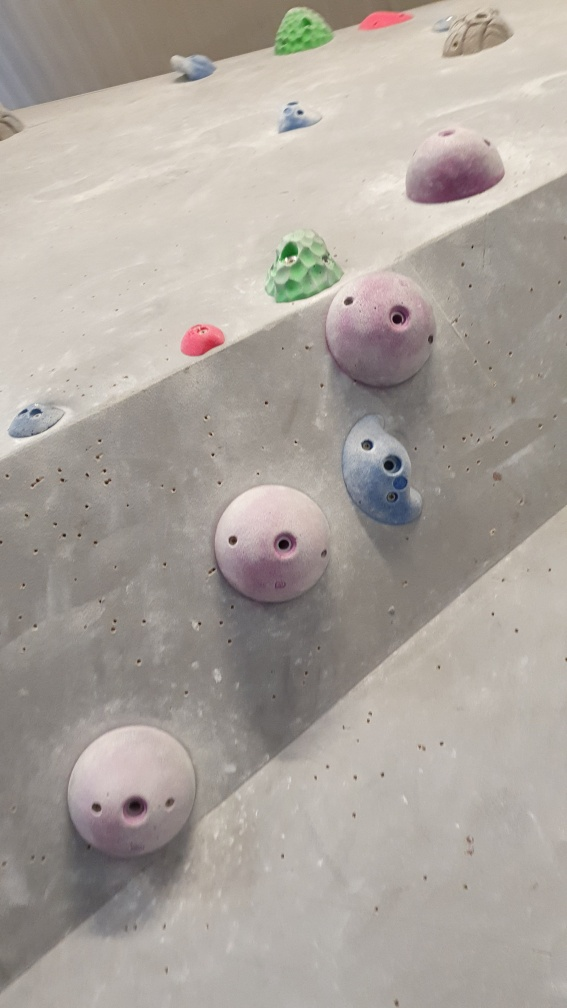Jug: (343, 412, 425, 525), (262, 223, 344, 303), (273, 4, 336, 62), (166, 51, 218, 85)
Pinch: (181, 321, 228, 362)
Sloper: (67, 724, 201, 860), (213, 478, 333, 610), (327, 271, 438, 390), (407, 127, 507, 207)
